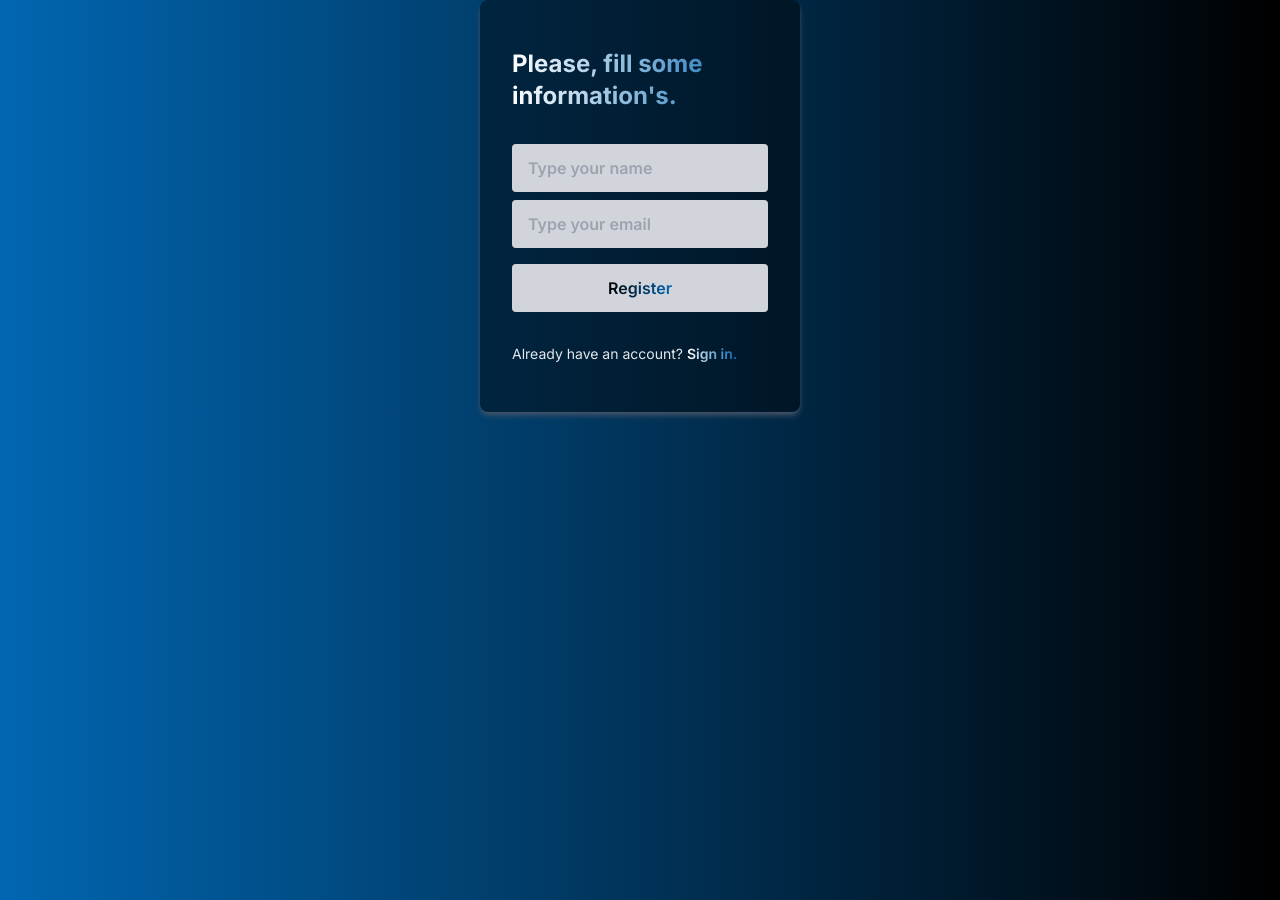
Scenario: <SignUpForm /> › should sign in function work correctly with axios error
This screenshot has width=1280, height=900.
In the field with placeholder "Type your name": (640, 168) left=512, top=144, right=768, bottom=192, type "User"
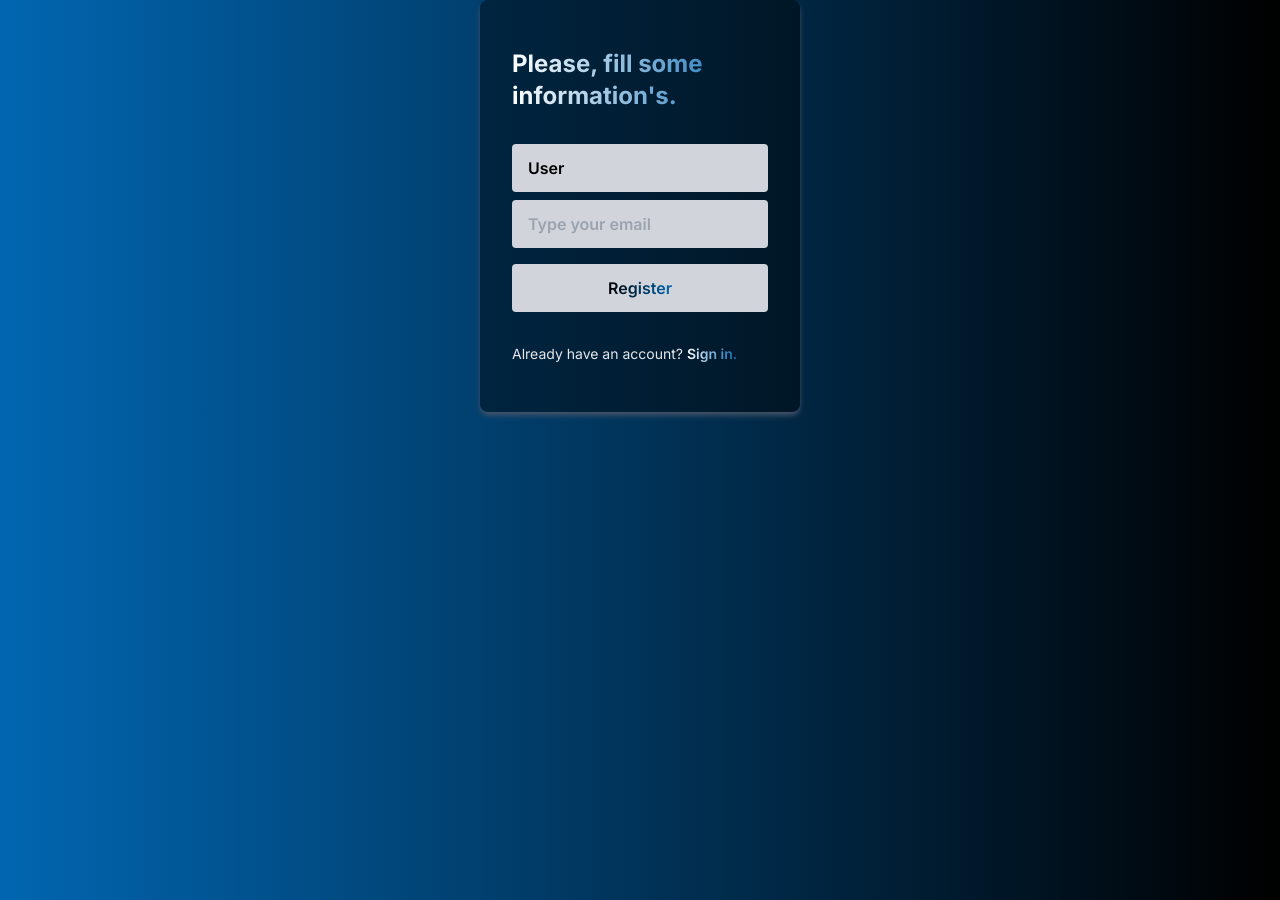
In the field with placeholder "Type your email": (640, 224) left=512, top=200, right=768, bottom=248, type "no.email@gmail.com"
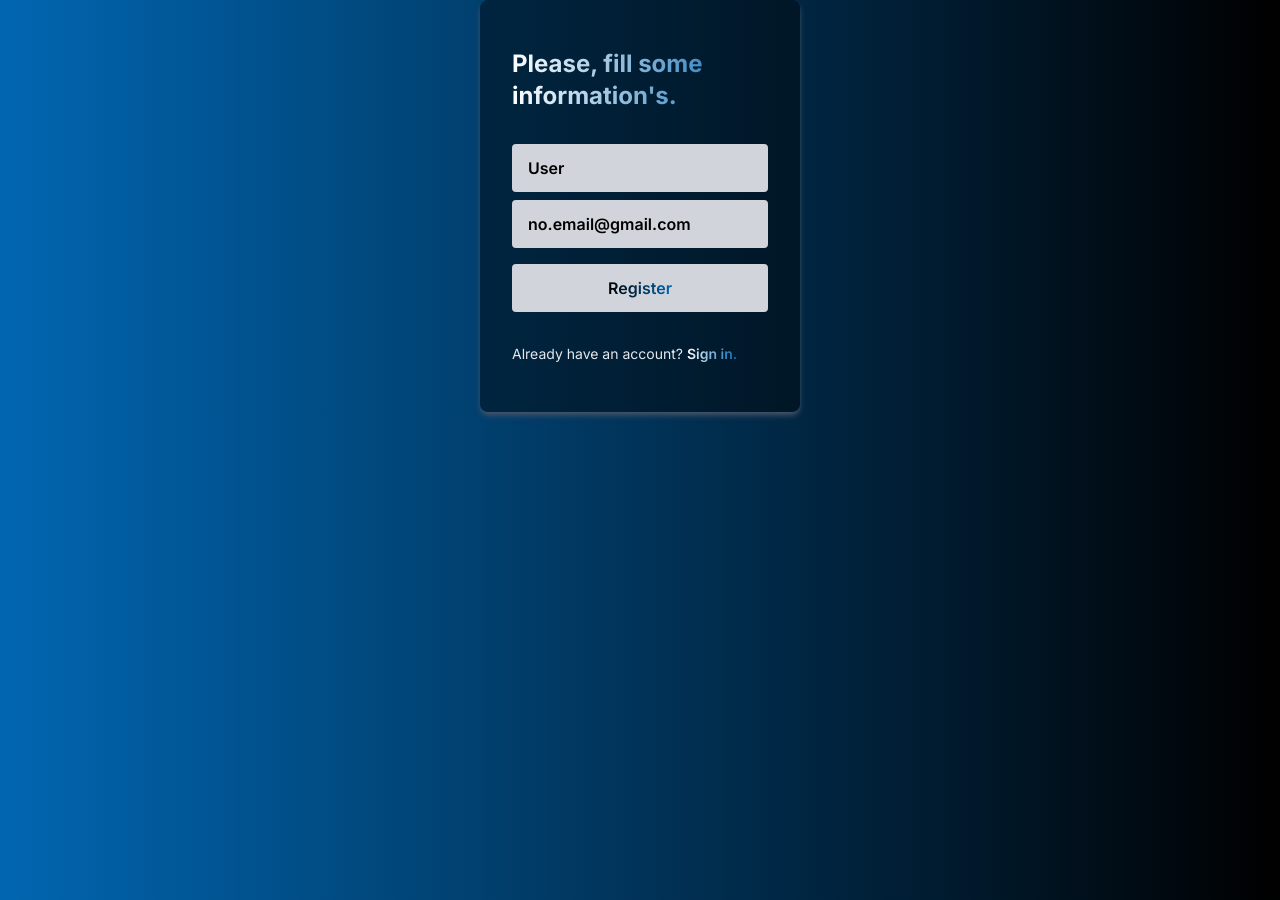
Click the button: click(640, 288) left=512, top=264, right=768, bottom=312
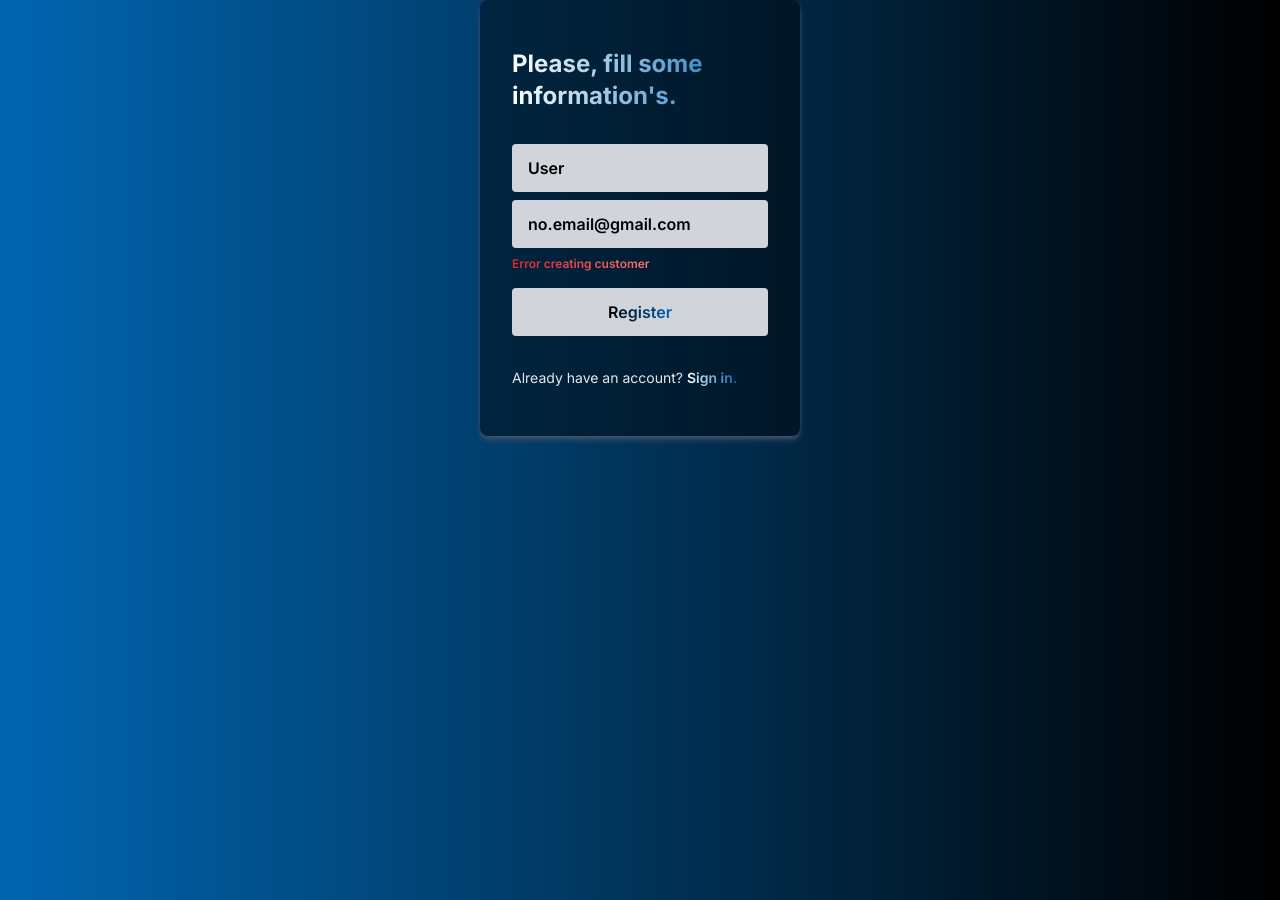
Expected: the text "Error creating customer" is shown, left=512, top=256, right=650, bottom=272
